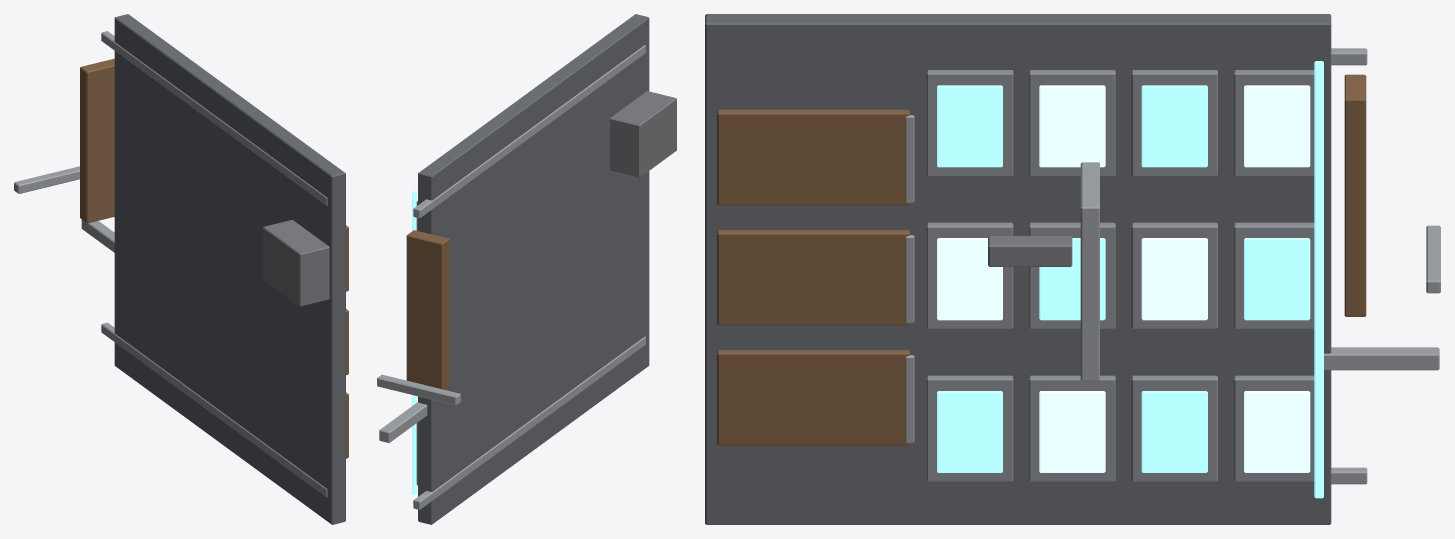
Rendered from facade_yard_l.glb.
3 views of the same model, side by side, from view 1: azimuth 30°, elevation 25°; view 2: azimuth 150°, elevation 25°; view 3: azimuth 270°, elevation 25° (orthographic). The views are drawn at different scales.
Parts seen in each view (by area): view 1: FacadeYard_L; view 2: FacadeYard_L; view 3: FacadeYard_L.
Boxes of the visible parts, bbox=[...] form: FacadeYard_L: bbox=[14, 14, 348, 524]; FacadeYard_L: bbox=[377, 14, 676, 524]; FacadeYard_L: bbox=[705, 14, 1440, 524].
Bounding box in the file's own units: 2.1 × 4.6 × 6.11.
